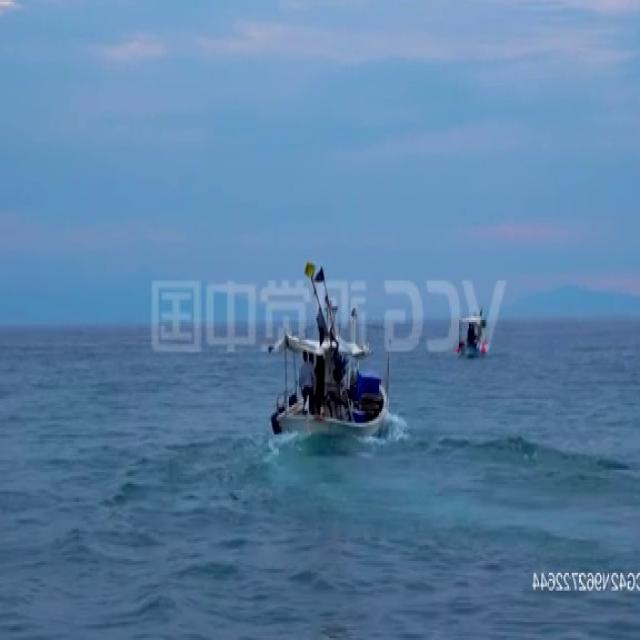houseboat: (273, 302, 384, 444), (456, 305, 488, 356)
